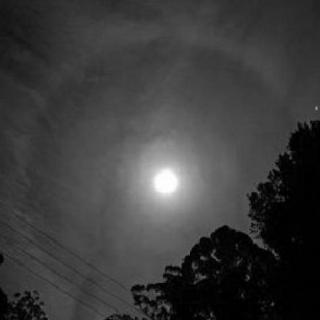Cirrostratus: (0, 0, 283, 288)
